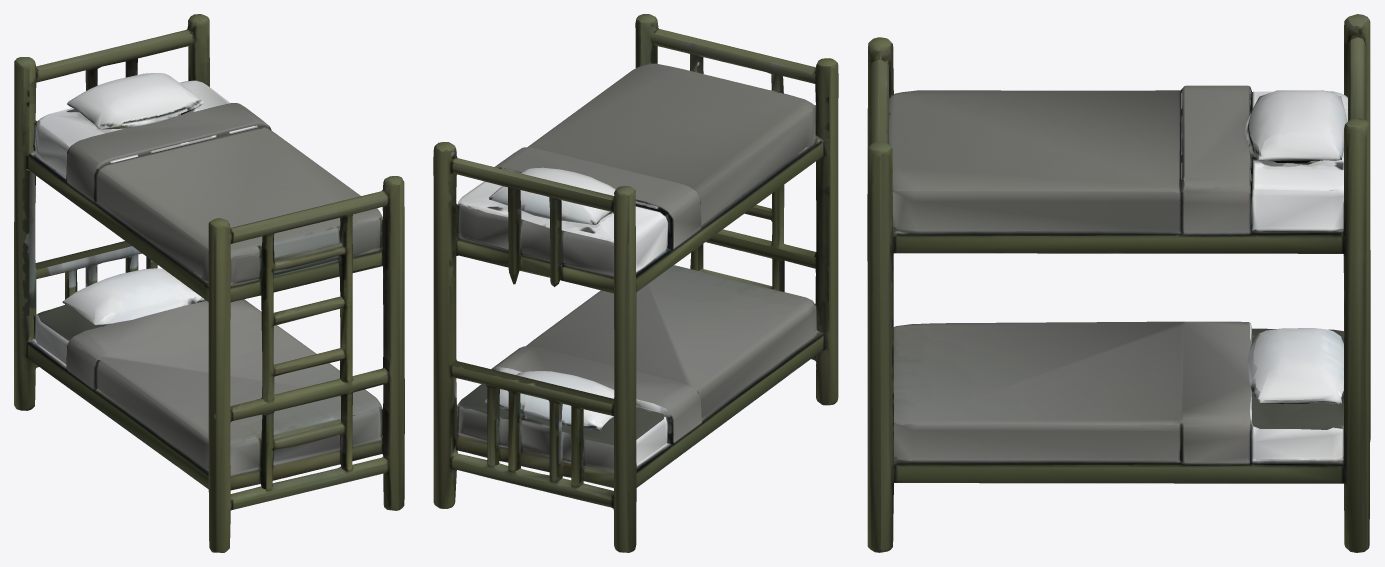
File: bunk_bed_tex.glb
The picture shows the model from 3 angles, left to right: view 1: azimuth 30°, elevation 25°; view 2: azimuth 150°, elevation 25°; view 3: azimuth 270°, elevation 25°; orthographic projection. The views are drawn at different scales.
Visible parts, largest first — view 1: tmpsgdpra2y.ply; view 2: tmpsgdpra2y.ply; view 3: tmpsgdpra2y.ply.
Boxes of the visible parts, x1=… form: tmpsgdpra2y.ply: x1=14, y1=14, x2=404, y2=552; tmpsgdpra2y.ply: x1=433, y1=14, x2=838, y2=552; tmpsgdpra2y.ply: x1=867, y1=14, x2=1370, y2=552.
Bounding box in the file's own units: 0.5379 × 0.9288 × 0.9874.
1 material, 1 textured.
